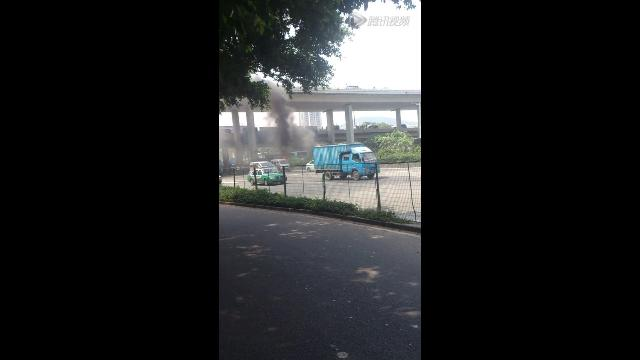smoke: (269, 88, 295, 154), (298, 128, 316, 152)
